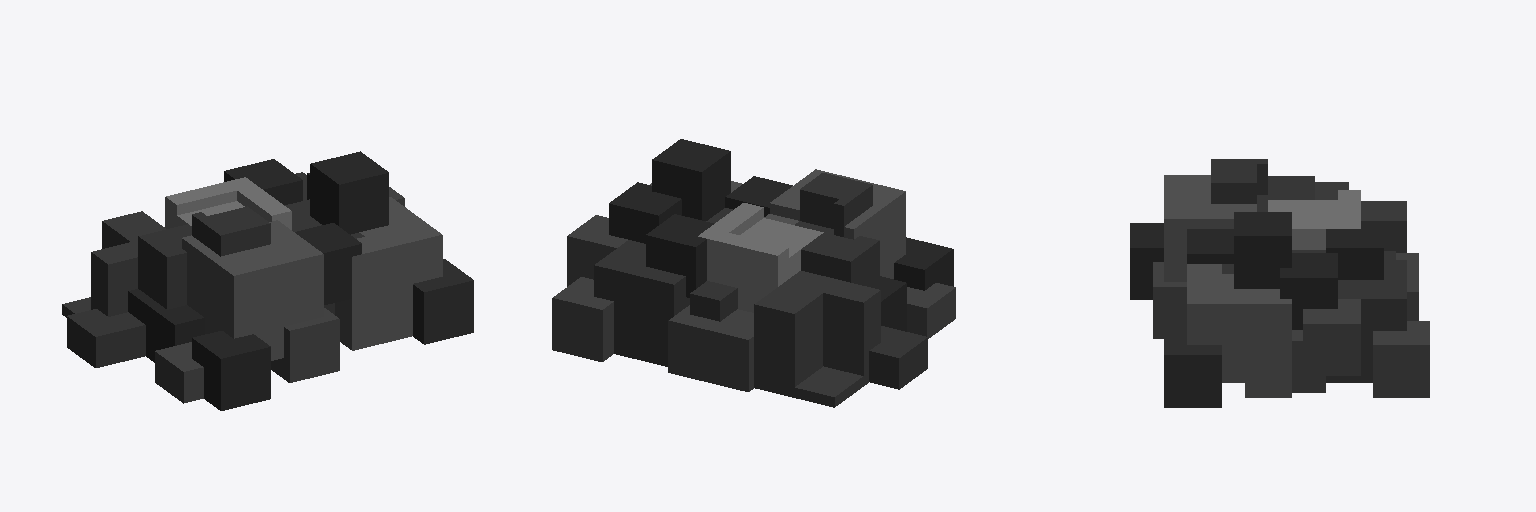
The picture shows the model from 3 angles: view 1: azimuth 30°, elevation 25°; view 2: azimuth 150°, elevation 25°; view 3: azimuth 270°, elevation 25°; orthographic projection.
Parts seen in each view (by area): view 1: object 1; view 2: object 1; view 3: object 1.
Part boxes in pixels (x1,y1,x2,y2): object 1: (62,151,473,410); object 1: (552,139,955,407); object 1: (1130,159,1429,407).
Bounding box in the file's own units: 3.2 × 1.4 × 2.6.
1 materials, 1 textured.